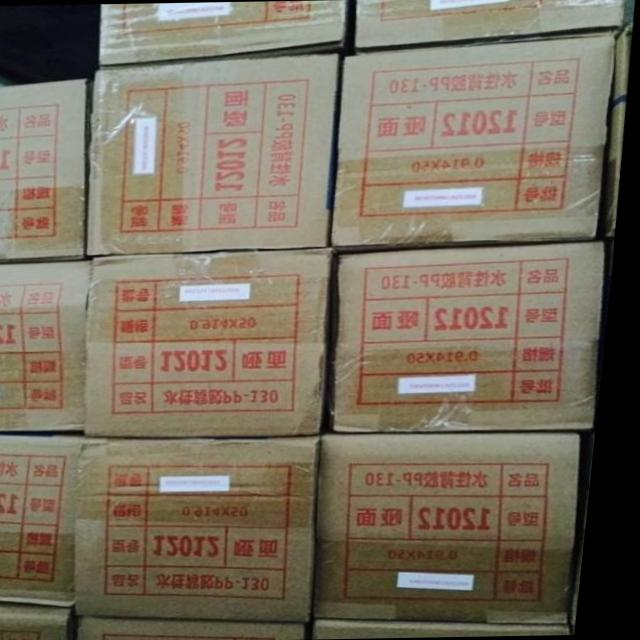box: (338, 32, 618, 245), (322, 431, 595, 623), (93, 51, 337, 256), (346, 241, 609, 430), (93, 247, 338, 434), (91, 428, 325, 619), (0, 79, 93, 259), (0, 260, 97, 428), (103, 0, 347, 65), (0, 434, 91, 605), (351, 0, 629, 51), (91, 617, 320, 640), (325, 619, 585, 639), (0, 603, 84, 640)
